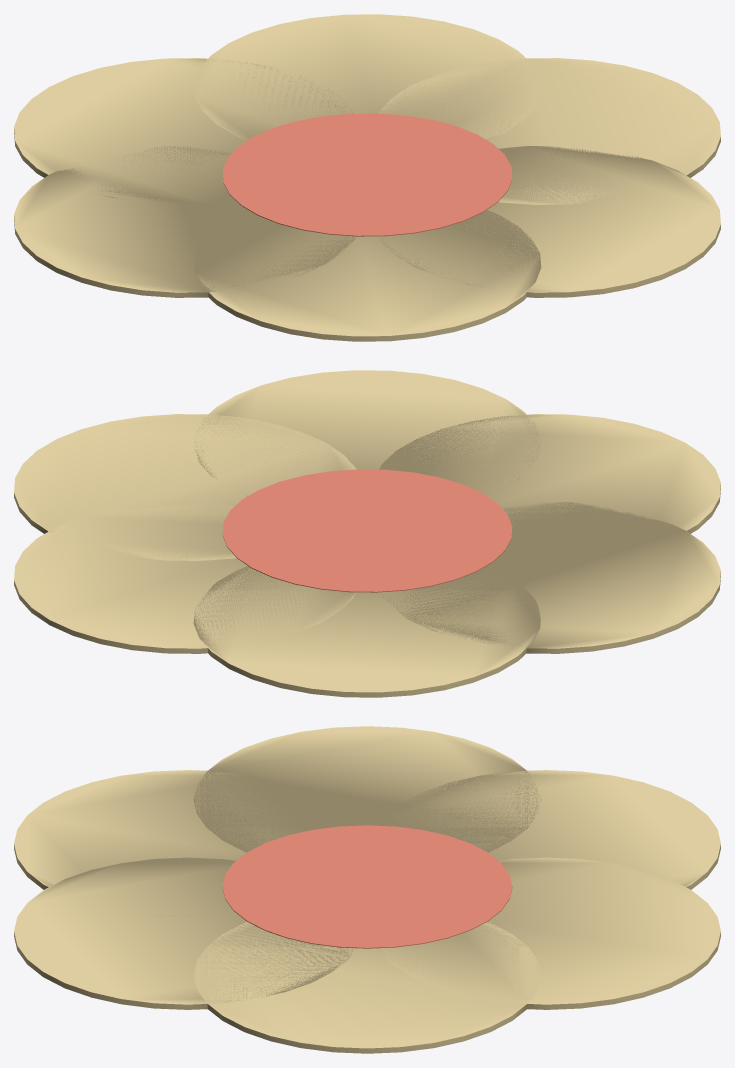
The model's file is rug-flower.glb.
3 views of the same model, one above another, from view 1: azimuth 30°, elevation 25°; view 2: azimuth 150°, elevation 25°; view 3: azimuth 270°, elevation 25° (orthographic).
Visible parts, largest first — view 1: rug-flower; view 2: rug-flower; view 3: rug-flower.
Part boxes in pixels (bbox=[...]): rug-flower: bbox=[14, 14, 720, 341]; rug-flower: bbox=[14, 370, 720, 697]; rug-flower: bbox=[14, 726, 720, 1053].
Bounding box in the file's own units: 1.84 × 0.0159 × 1.71.
